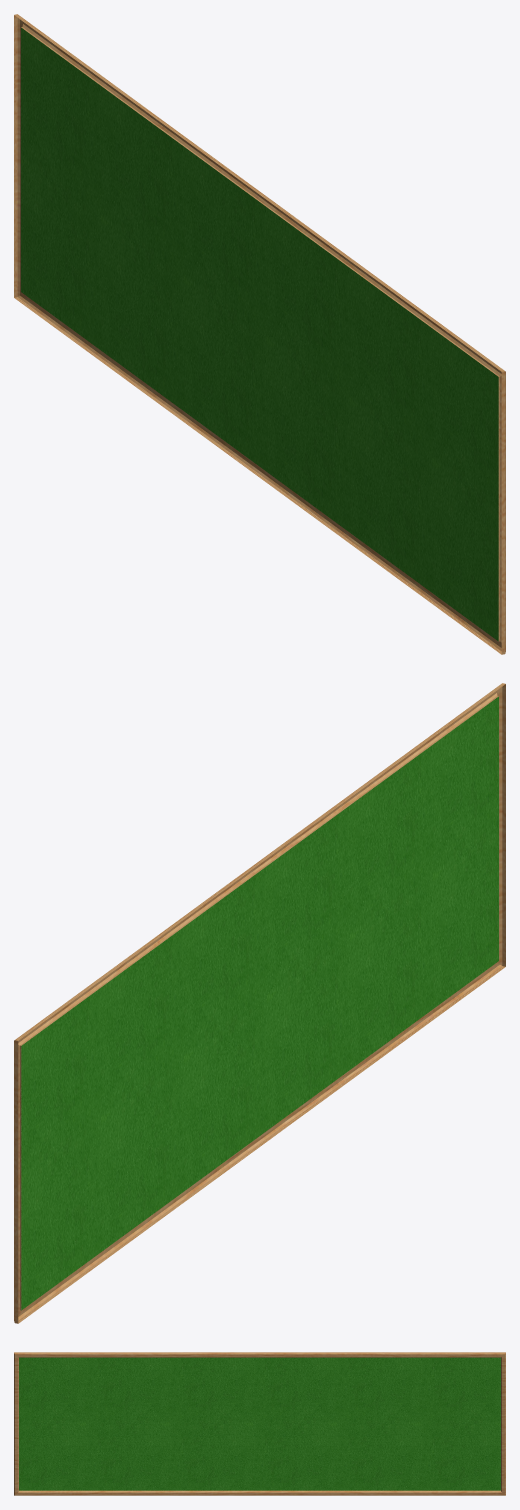
File: Notice Board.FBX
3 views of the same model, one above another, from view 1: azimuth 30°, elevation 25°; view 2: azimuth 150°, elevation 25°; view 3: azimuth 270°, elevation 25° (orthographic). The views are drawn at different scales.
Visible parts, largest first — view 1: corkboard; view 2: corkboard; view 3: corkboard.
Part boxes in pixels (<box>): corkboard: <box>14,14,505,654</box>; corkboard: <box>14,683,505,1323</box>; corkboard: <box>14,1352,505,1495</box>.
Bounding box in the file's own units: 0.7111 × 37.34 × 117.
Materials: 2 (2 with a texture image).
